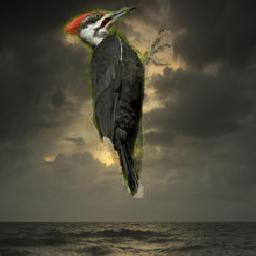Woodpecker: (61, 4, 171, 198)
